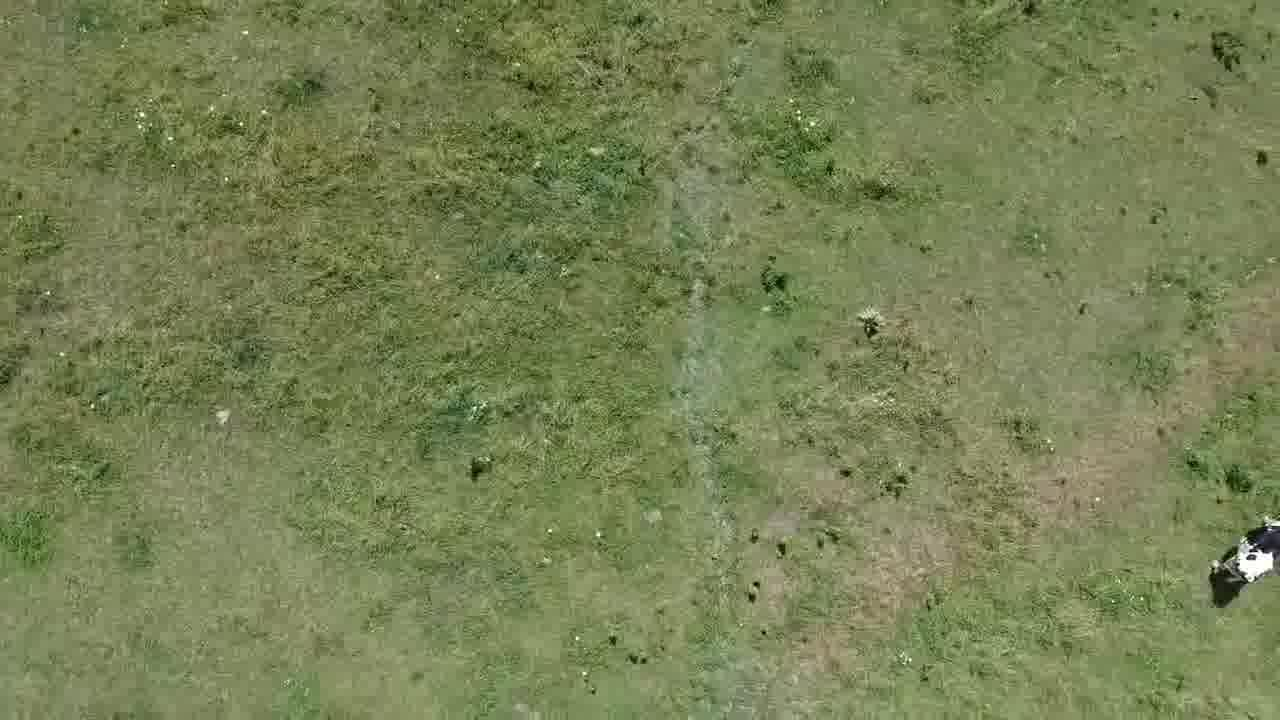cow: (1206, 509, 1280, 596)
